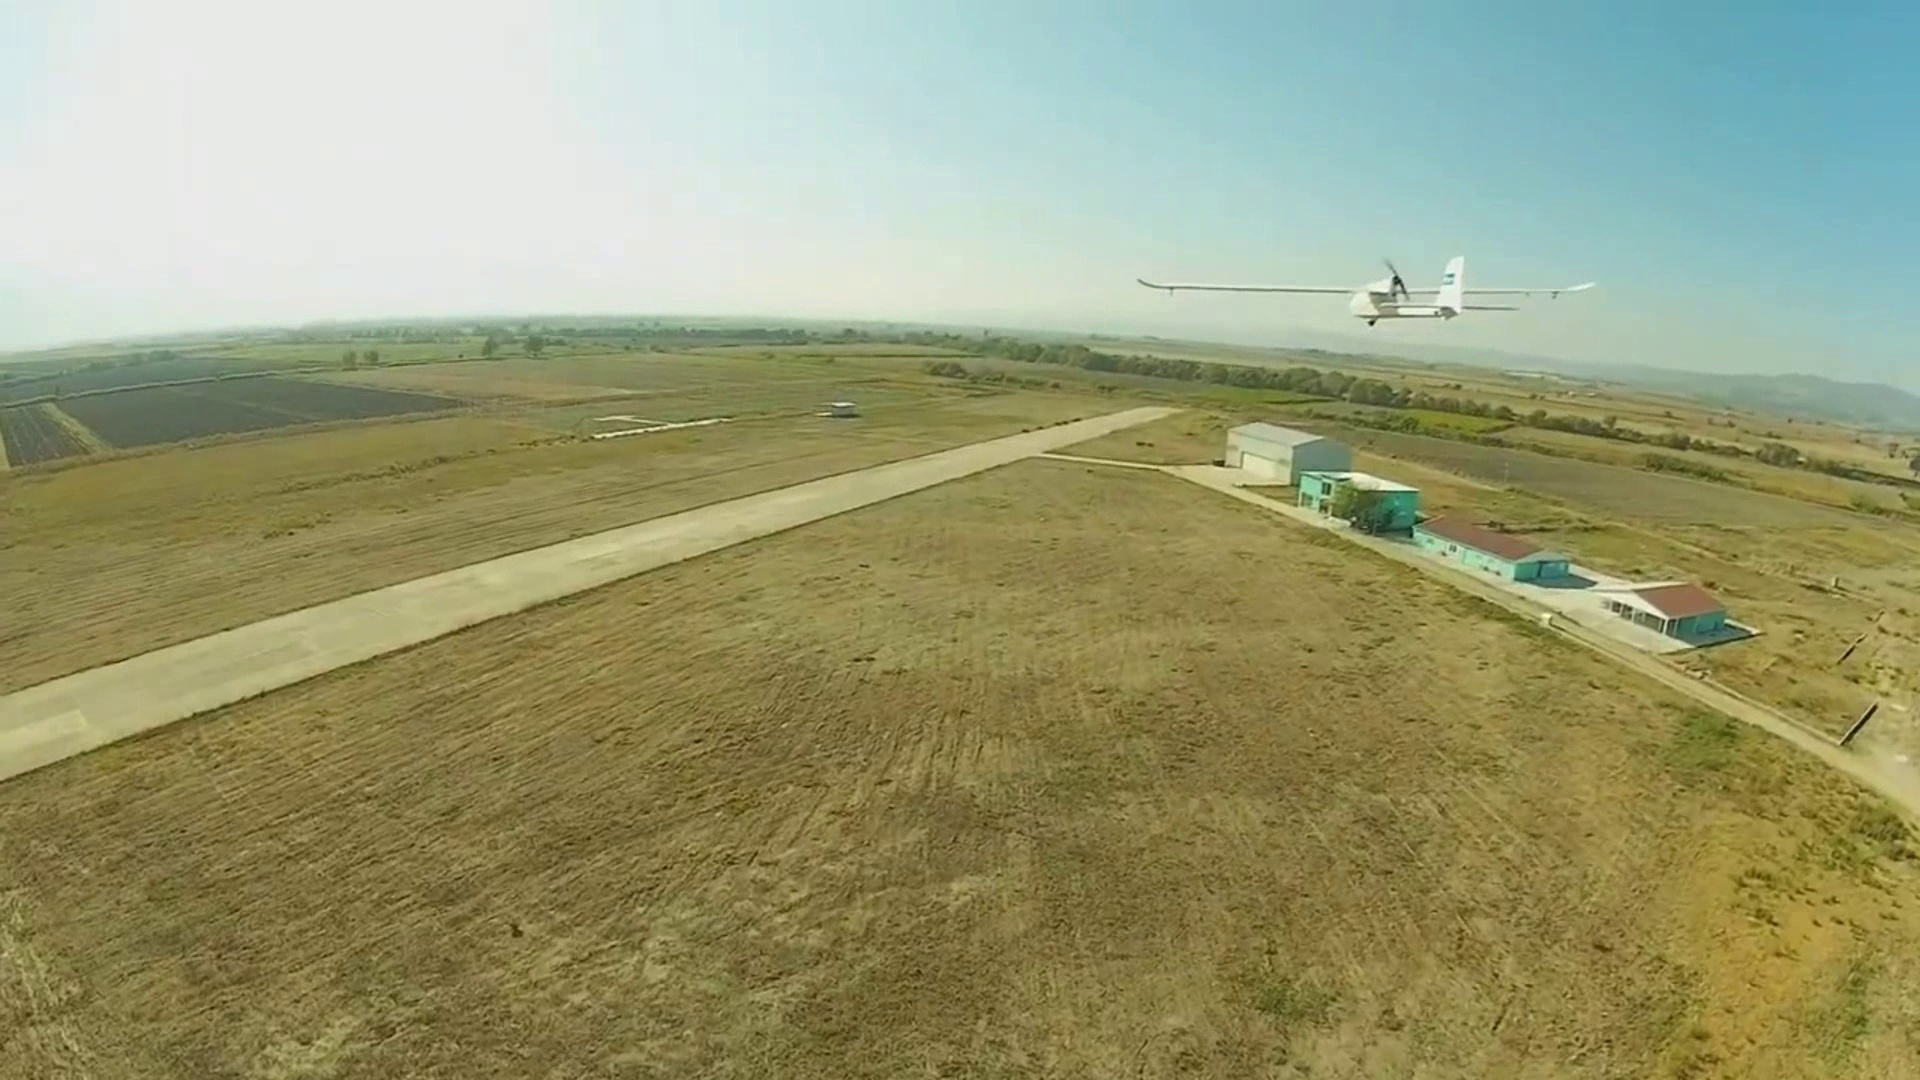airplane: (1134, 251, 1600, 328), (1341, 253, 1601, 324), (1346, 255, 1497, 326)
